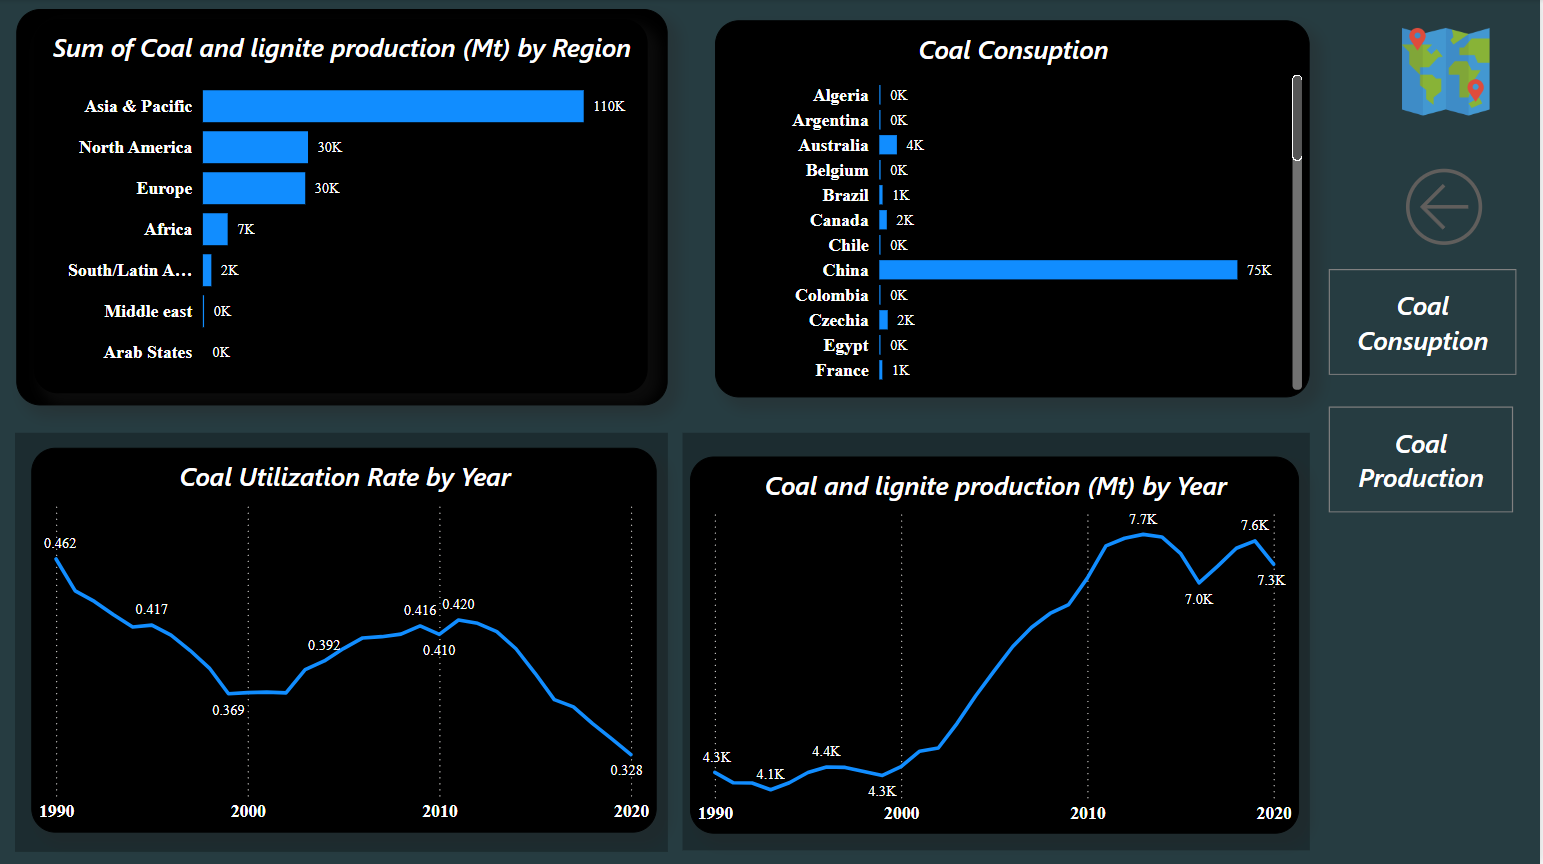

The page's visual inventory and layout, read from the dashboard file:
{"tool":"powerbi","page":{"name":"Coal and Lignite","canvas":[1280,720],"ordinal":2},"visuals":[{"type":"shape","box":[13.7,8.4,541.8,329.5],"z":0,"group":"g3"},{"type":"shape","box":[12.7,360.1,542.8,348.5],"z":0,"group":"g2"},{"type":"group","id":"g1","title":"Group 5","box":[567.1,360.1,521.7,347.5],"z":0,"group":"g4"},{"type":"shape","box":[567.1,360.1,521.7,347.5],"z":0,"group":"g1"},{"type":"barChart","fields":{"Category":["Energy data 1990-2020.Region"],"Y":["Sum(Energy data 1990-2020.Coal and lignite production (Mt))"]},"box":[27.8,17.1,510.7,310.9],"z":1000,"group":"g3"},{"type":"group","id":"g2","title":"Group 1","box":[12.7,360.1,542.8,348.5],"z":1000},{"type":"lineChart","fields":{"Y":["Measure.Coal Utilization Rate"],"Category":["Energy data 1990-2020.Year"]},"box":[25.8,372.8,520,319.7],"z":1000,"group":"g2"},{"type":"lineChart","title":"Coal and lignite production (Mt) by Year","fields":{"Y":["Sum(Energy data 1990-2020.Coal and lignite production (Mt))"],"Category":["Energy data 1990-2020.Year"]},"box":[573.1,379.8,506.6,313.9],"z":1000,"group":"g1"},{"type":"actionButton","box":[1104.8,224.1,156.2,88.2],"z":3000},{"type":"actionButton","box":[1104.8,338.4,153.3,88.2],"z":4000},{"type":"group","id":"g3","title":"Group 2","box":[13.7,8.4,541.8,329.5],"z":5000},{"type":"group","id":"g4","title":"COAL CON","box":[567.1,360.1,521.7,347.5],"z":7000},{"type":"image","title":"PRO MAP","box":[1161.2,17.4,82.4,85.3],"z":9000},{"type":"barChart","title":"Coal Consuption","fields":{"Category":["Energy data 1990-2020.country"],"Y":["Sum(Energy data 1990-2020.Coal and lignite domestic consumption (Mt))"]},"box":[594.3,17.4,494.5,313.8],"z":10000},{"type":"actionButton","box":[1161.2,133,101.2,79.5],"z":11000}]}

Visuals, with their boxes in screenshot pixels (x1, y1, x2, y2), scaled from the page's 1280x720 canvas onto the 1543x864 screenshot:
shape: 17/10/670/405
shape: 15/432/670/850
"Group 5" group: 684/432/1313/849
shape: 684/432/1313/849
barChart - Energy data 1990-2020.Region x Sum(Energy data 1990-2020.Coal and lignite production (Mt)): 34/21/649/394
"Group 1" group: 15/432/670/850
lineChart - Measure.Coal Utilization Rate x Energy data 1990-2020.Year: 31/447/658/831
"Coal and lignite production (Mt) by Year" lineChart: 691/456/1302/832
actionButton: 1332/269/1520/375
actionButton: 1332/406/1517/512
"Group 2" group: 17/10/670/405
"COAL CON" group: 684/432/1313/849
"PRO MAP" image: 1400/21/1499/123
"Coal Consuption" barChart: 716/21/1313/397
actionButton: 1400/160/1522/255
